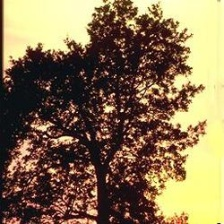neutral: (8, 1, 198, 215)
